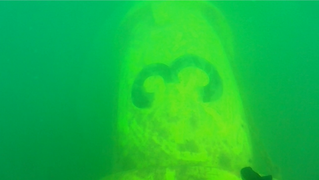3: (131, 53, 224, 108)
pipe: (100, 1, 255, 179)
